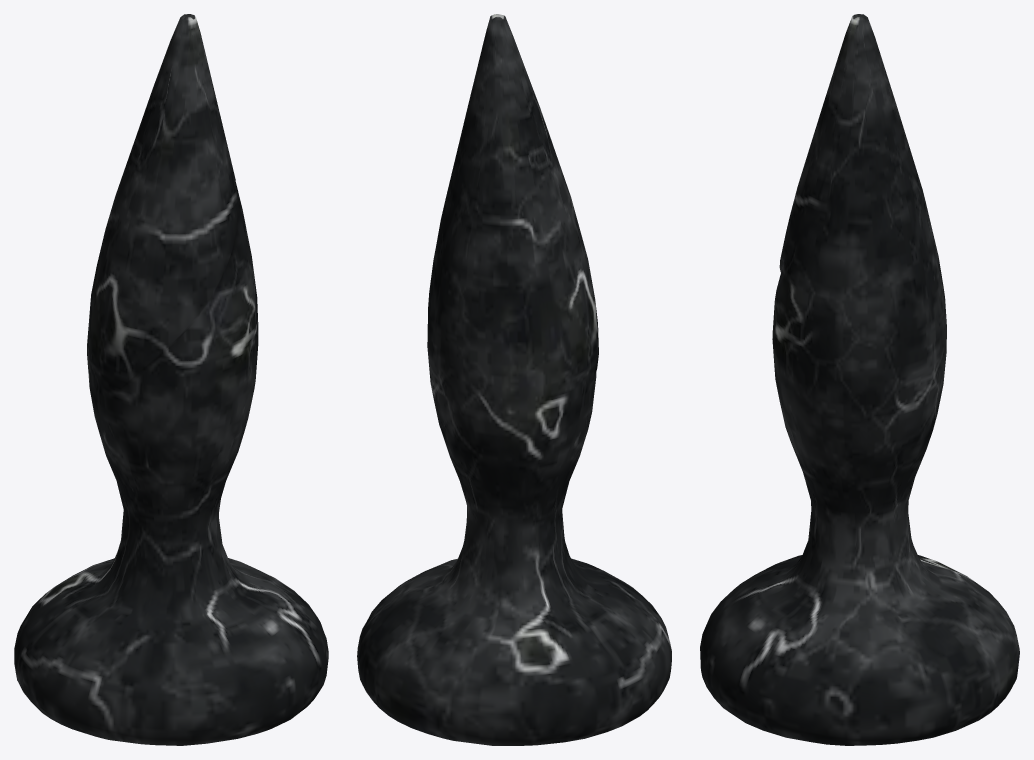
File: Serpentina_bishop_black.glb
The picture shows the model from 3 angles, left to right: view 1: azimuth 30°, elevation 25°; view 2: azimuth 150°, elevation 25°; view 3: azimuth 270°, elevation 25°; orthographic projection.
Parts seen in each view (by area): view 1: Serpentina_bishop_black; view 2: Serpentina_bishop_black; view 3: Serpentina_bishop_black.
Boxes of the visible parts, left/top/right/bottom form: Serpentina_bishop_black: left=14, top=14, right=328, bottom=745; Serpentina_bishop_black: left=357, top=14, right=671, bottom=745; Serpentina_bishop_black: left=700, top=14, right=1019, bottom=745.
Size of the model in its own units: 0.0371 by 0.0866 by 0.0371.
Materials: 1 (1 with a texture image).
